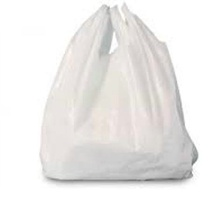plastic_bag: (33, 0, 200, 188)
